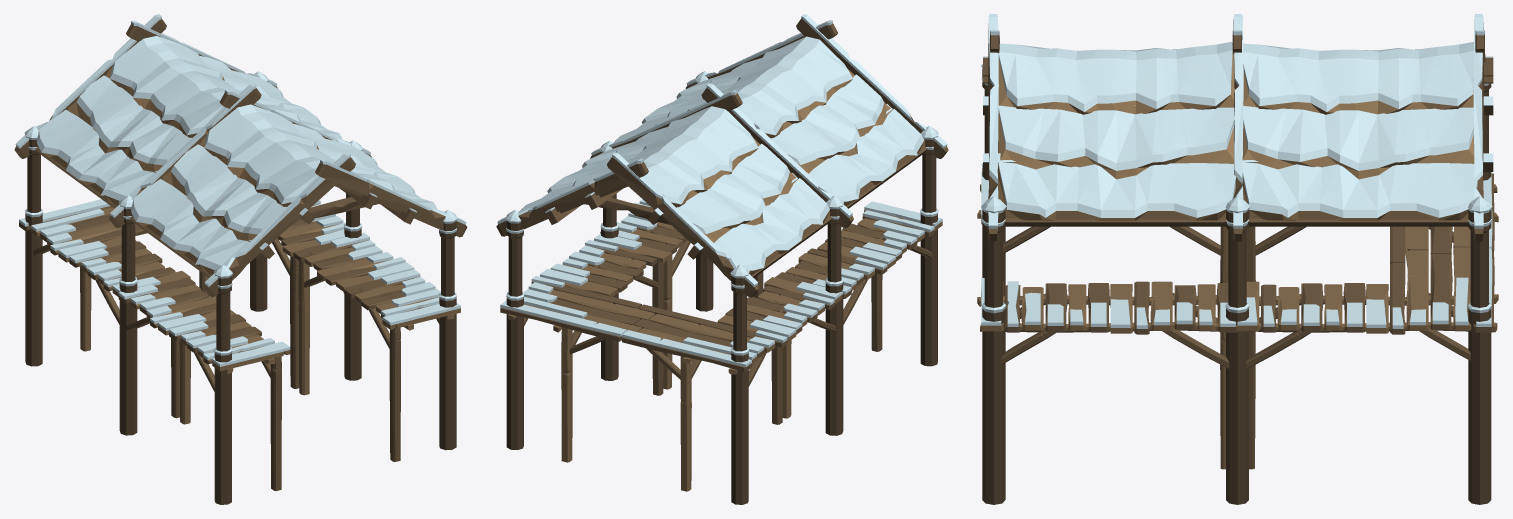
File: Puerto01.glb
3 renders of one model, left to right at view 1: azimuth 30°, elevation 25°; view 2: azimuth 150°, elevation 25°; view 3: azimuth 270°, elevation 25°, orthographic. The views are drawn at different scales.
Parts seen in each view (by area): view 1: SM_Bld_BoatHouse_01_Snow; view 2: SM_Bld_BoatHouse_01_Snow; view 3: SM_Bld_BoatHouse_01_Snow.
Part boxes in pixels (x1,y1,x2,y2): SM_Bld_BoatHouse_01_Snow: (14, 14, 467, 504); SM_Bld_BoatHouse_01_Snow: (496, 14, 948, 504); SM_Bld_BoatHouse_01_Snow: (977, 14, 1498, 504).
Size of the model in its own units: 8.01 by 9.3 by 10.8.
Materials: 1 (1 with a texture image).
